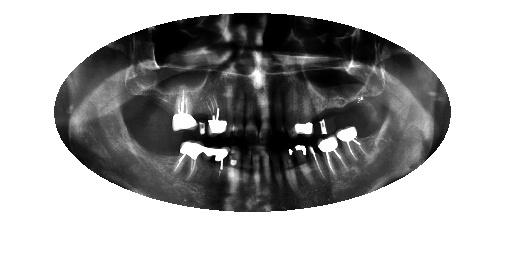fractura: (204, 144, 229, 190), (291, 95, 314, 136)
otra: (172, 140, 201, 186), (337, 128, 367, 164), (170, 94, 197, 132), (316, 135, 340, 175), (203, 100, 227, 137)
